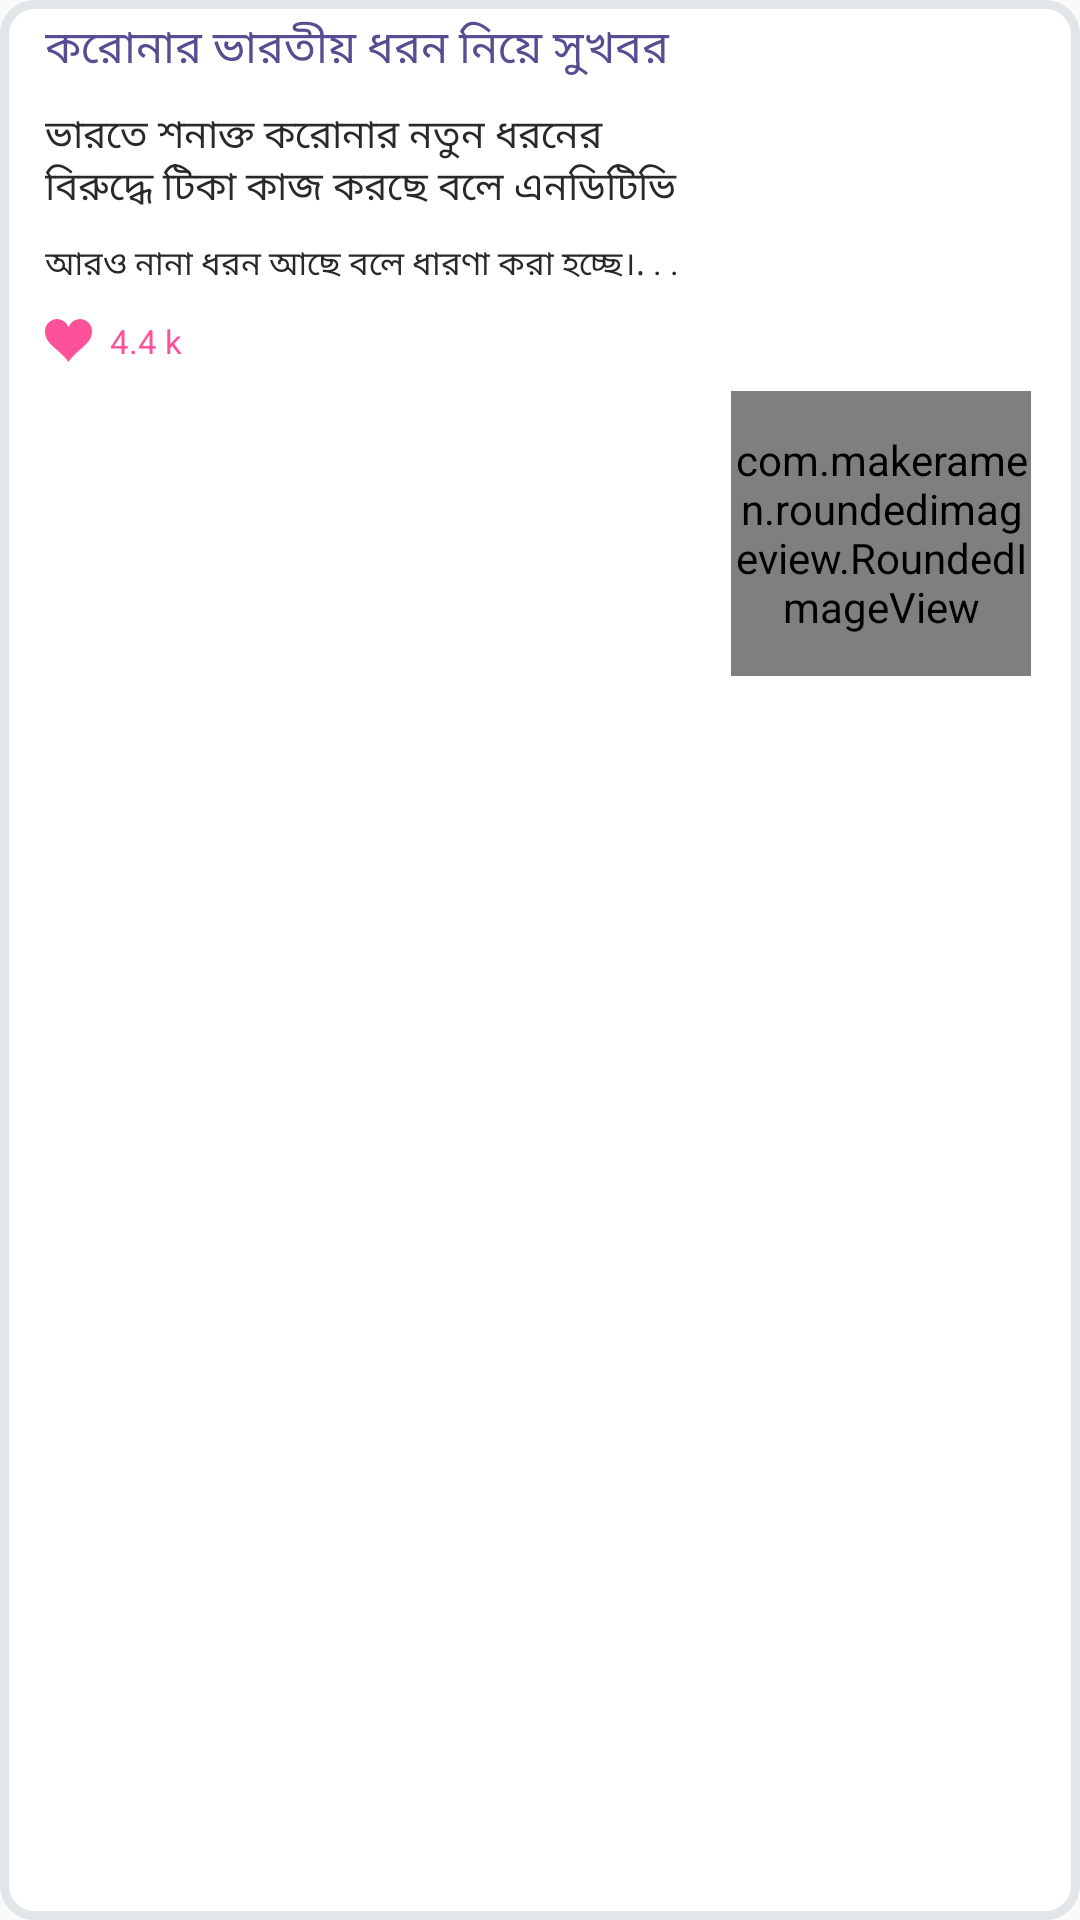

Named icons in this screenshot (1080*1920) and their bounding boxes, bbox=(x1, y1, x2, y2):
heart love: bbox=(45, 319, 92, 362)
